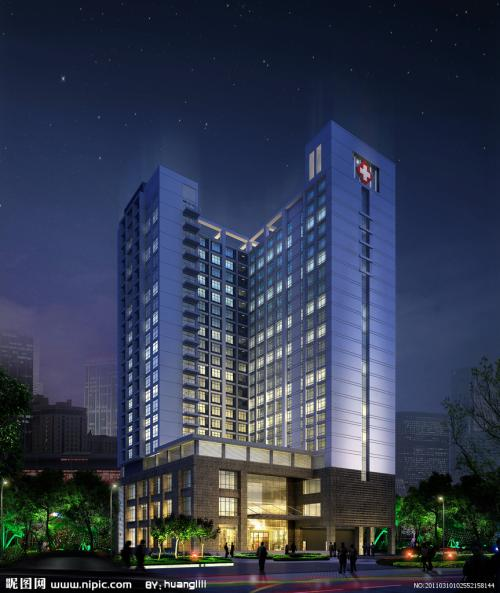buildings: (72, 142, 420, 573), (144, 185, 340, 471), (83, 189, 229, 492)
